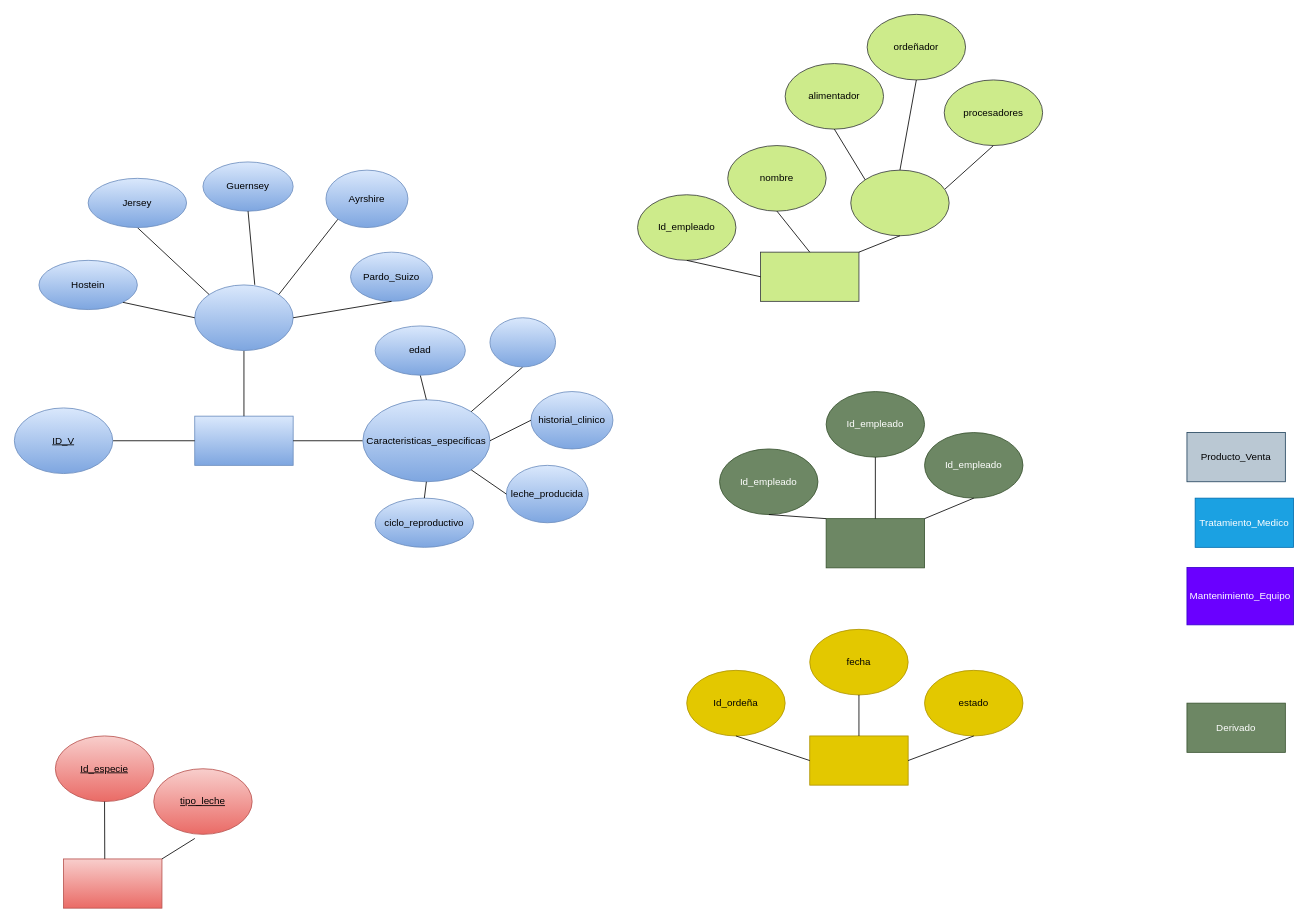
The diagram is 1308 pixels wide and 923 high, and some of its shapes have lost their labels. Here are the shapes that lost their labels. From the top down, the centre of each, then its label:
the point at 899,202: cargo
the point at 809,276: Empleados
the point at 243,317: raza
the point at 522,342: peso
the point at 243,440: Vacas
the point at 875,543: Alimentacion
the point at 858,760: Ordeñamiento
the point at 112,883: Tipo_Especies
